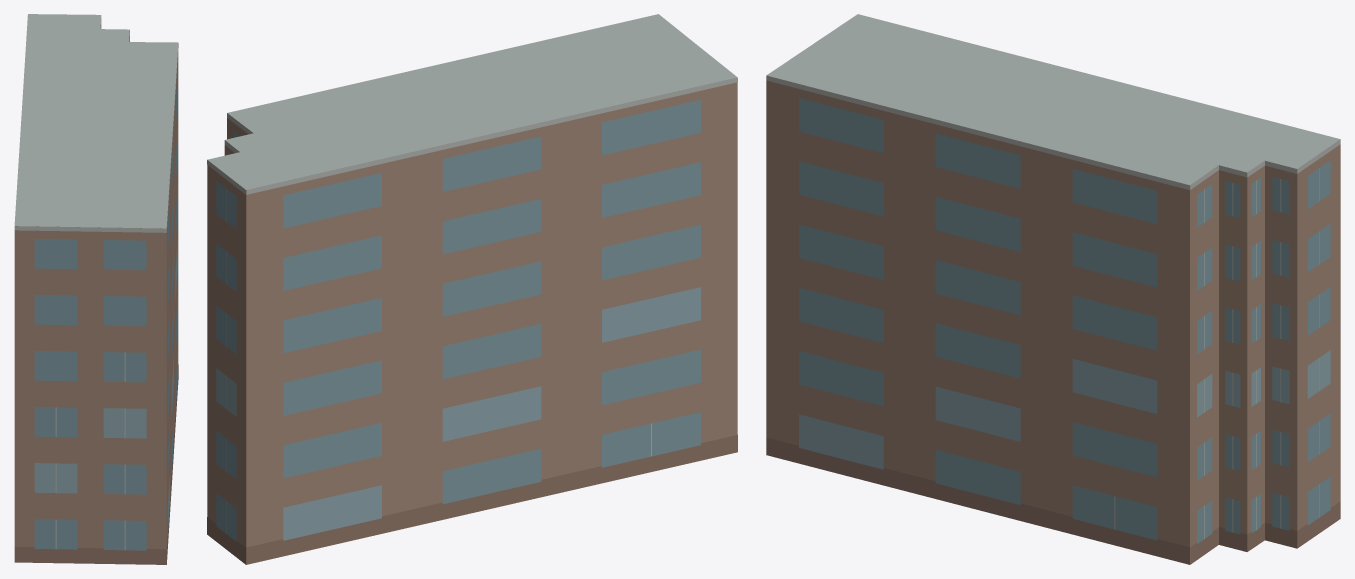
File: survey-upis-32507706.glb
3 renders of one model, left to right at view 1: azimuth 30°, elevation 25°; view 2: azimuth 150°, elevation 25°; view 3: azimuth 270°, elevation 25°, orthographic. The views are drawn at different scales.
Visible parts, largest first — view 1: survey-upis-32507706.tmp; view 2: survey-upis-32507706.tmp; view 3: survey-upis-32507706.tmp.
Boxes of the visible parts, x1,y1,x2,y2 form: survey-upis-32507706.tmp: (14, 14, 178, 564); survey-upis-32507706.tmp: (207, 14, 737, 564); survey-upis-32507706.tmp: (766, 14, 1340, 564).
Size of the model in its own units: 18.3 by 18.9 by 25.93.
